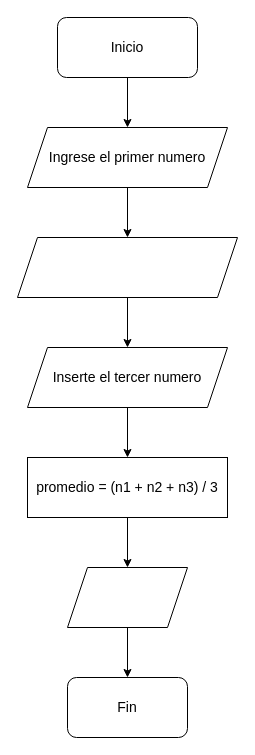
Image size: 255x755. Some labels were removed from this diagram. The box of each missing label's shape, as (x1, y1, x2, y2) in pixels:
Ingrese el segundo numero: (16, 236, 238, 298)
promedio: (66, 566, 188, 628)
